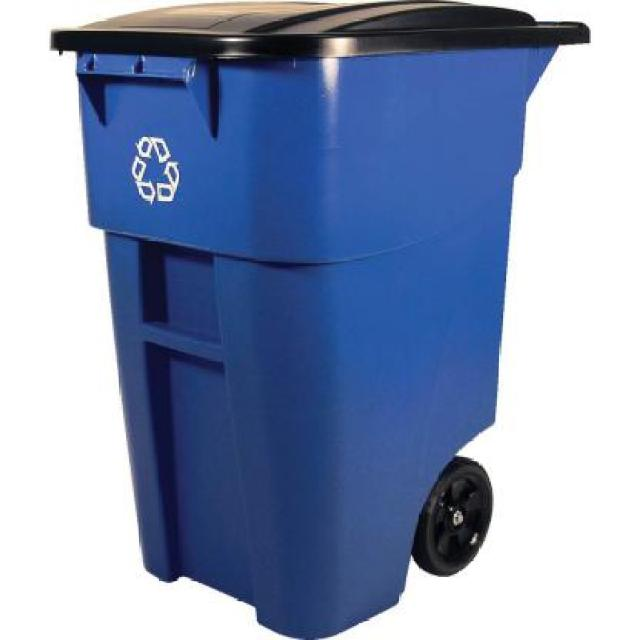garbage container: (44, 1, 599, 639)
